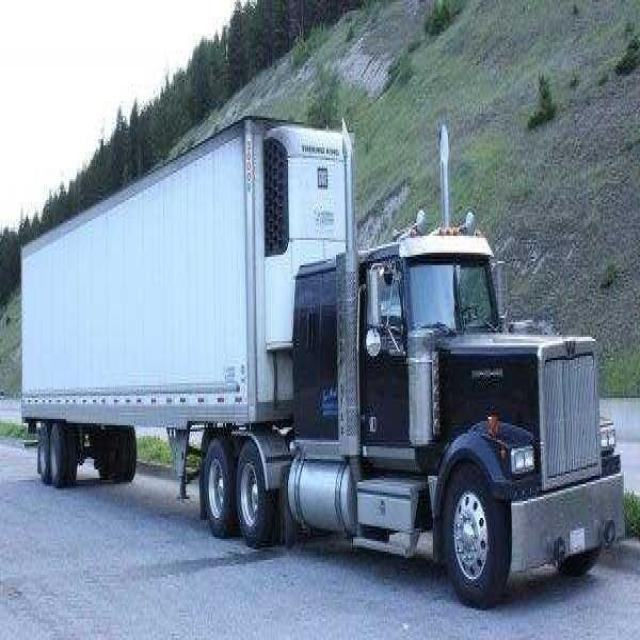Truck: (17, 109, 630, 616)
